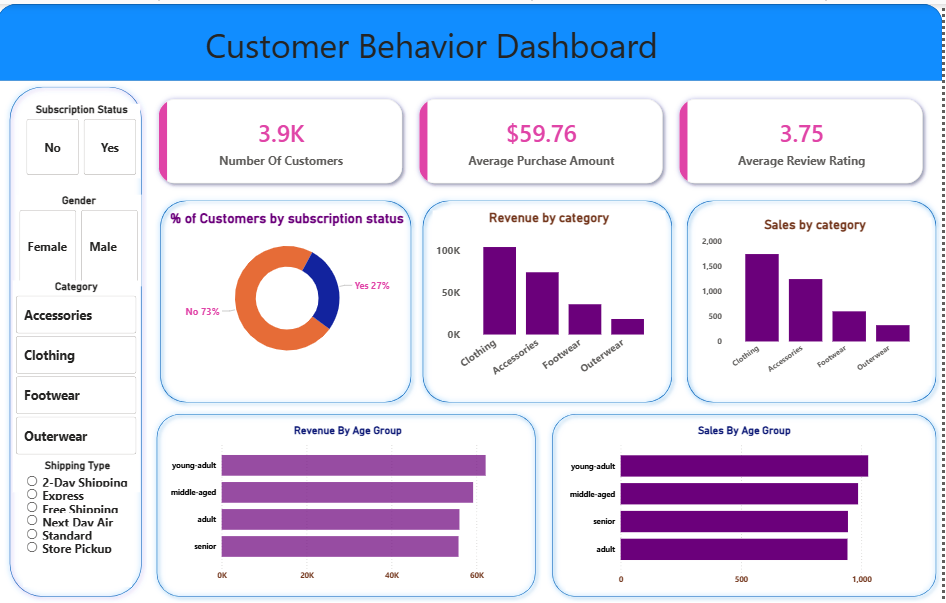

This screenshot's page, from the dashboard's own definition file:
{"tool":"powerbi","page":{"name":"Page 1","canvas":[1500,950],"ordinal":0},"visuals":[{"type":"cardVisual","fields":{"Data":["public customer.Number Of Customers","public customer.Average Purchase Amount","public customer.Average Review Rating"]},"box":[228.5,121.7,1271.5,191.2],"z":0},{"type":"shape","box":[0,0,1500,121.7],"z":1000},{"type":"textbox","box":[84.4,22.4,1211.9,82],"z":2000},{"type":"donutChart","title":"% of Customers by subscription status","fields":{"Category":["public customer.subscription_status"],"Y":["CountNonNull(public customer.customer_id)"]},"box":[265.7,327.8,387.4,253.3],"z":3000},{"type":"shape","box":[249.9,302.7,416.5,338.7],"z":4000},{"type":"shape","box":[666.4,302.7,413.7,338.7],"z":5000},{"type":"shape","box":[1085.7,302.7,413.7,338.7],"z":6000},{"type":"clusteredColumnChart","title":"Revenue by category","fields":{"Y":["Sum(public customer.purchase_amount)"],"Category":["public customer.category"]},"box":[691.4,327.6,369.3,277.7],"z":7000},{"type":"clusteredColumnChart","title":"Sales by category","fields":{"Category":["public customer.category"],"Y":["CountNonNull(public customer.customer_id)"]},"box":[1113.4,338.7,369.3,266.6],"z":8000},{"type":"shape","box":[11.1,122.2,227.7,827.4],"z":9000},{"type":"advancedSlicerVisual","fields":{"Values":["public customer.subscription_status"]},"box":[40.3,158.6,185.5,118.3],"z":10000},{"type":"advancedSlicerVisual","fields":{"Values":["public customer.gender"]},"box":[29.6,303.9,199,145.2],"z":11000},{"type":"advancedSlicerVisual","fields":{"Values":["public customer.category"]},"box":[24.2,438.3,201.7,336.1],"z":12000},{"type":"listSlicer","fields":{"Values":["public customer.shipping_type"]},"box":[41.6,721.9,172.2,202.7],"z":13000},{"type":"clusteredBarChart","title":"Revenue By Age Group","fields":{"Y":["Sum(public customer.purchase_amount)"],"Category":["public customer.age_group"]},"box":[269.3,666.4,574.8,258.2],"z":14000},{"type":"shape","box":[244.3,641.4,619.2,308.2],"z":15000},{"type":"shape","box":[871.9,641.4,627.5,308.2],"z":16000},{"type":"clusteredBarChart","title":"Sales By Age Group","fields":{"Y":["CountNonNull(public customer.customer_id)"],"Category":["public customer.age_group"]},"box":[902.4,666.4,566.4,263.8],"z":17000}]}

Visuals, with their boxes in screenshot pixels (x1, y1, x2, y2), scaled from the page's 1500x950 canvas onto the 946x603 screenshot:
cardVisual - public customer.Number Of Customers x public customer.Average Purchase Amount: pyautogui.locateOnScreen(144, 77, 945, 199)
shape: pyautogui.locateOnScreen(0, 0, 945, 77)
textbox: pyautogui.locateOnScreen(53, 14, 818, 66)
"% of Customers by subscription status" donutChart: pyautogui.locateOnScreen(168, 208, 412, 369)
shape: pyautogui.locateOnScreen(158, 192, 420, 407)
shape: pyautogui.locateOnScreen(420, 192, 681, 407)
shape: pyautogui.locateOnScreen(685, 192, 945, 407)
"Revenue by category" clusteredColumnChart: pyautogui.locateOnScreen(436, 208, 669, 384)
"Sales by category" clusteredColumnChart: pyautogui.locateOnScreen(702, 215, 935, 384)
shape: pyautogui.locateOnScreen(7, 78, 151, 602)
advancedSlicerVisual - public customer.subscription_status: pyautogui.locateOnScreen(25, 101, 142, 176)
advancedSlicerVisual - public customer.gender: pyautogui.locateOnScreen(19, 193, 144, 285)
advancedSlicerVisual - public customer.category: pyautogui.locateOnScreen(15, 278, 142, 492)
listSlicer - public customer.shipping_type: pyautogui.locateOnScreen(26, 458, 135, 587)
"Revenue By Age Group" clusteredBarChart: pyautogui.locateOnScreen(170, 423, 532, 587)
shape: pyautogui.locateOnScreen(154, 407, 545, 602)
shape: pyautogui.locateOnScreen(550, 407, 945, 602)
"Sales By Age Group" clusteredBarChart: pyautogui.locateOnScreen(569, 423, 926, 590)
